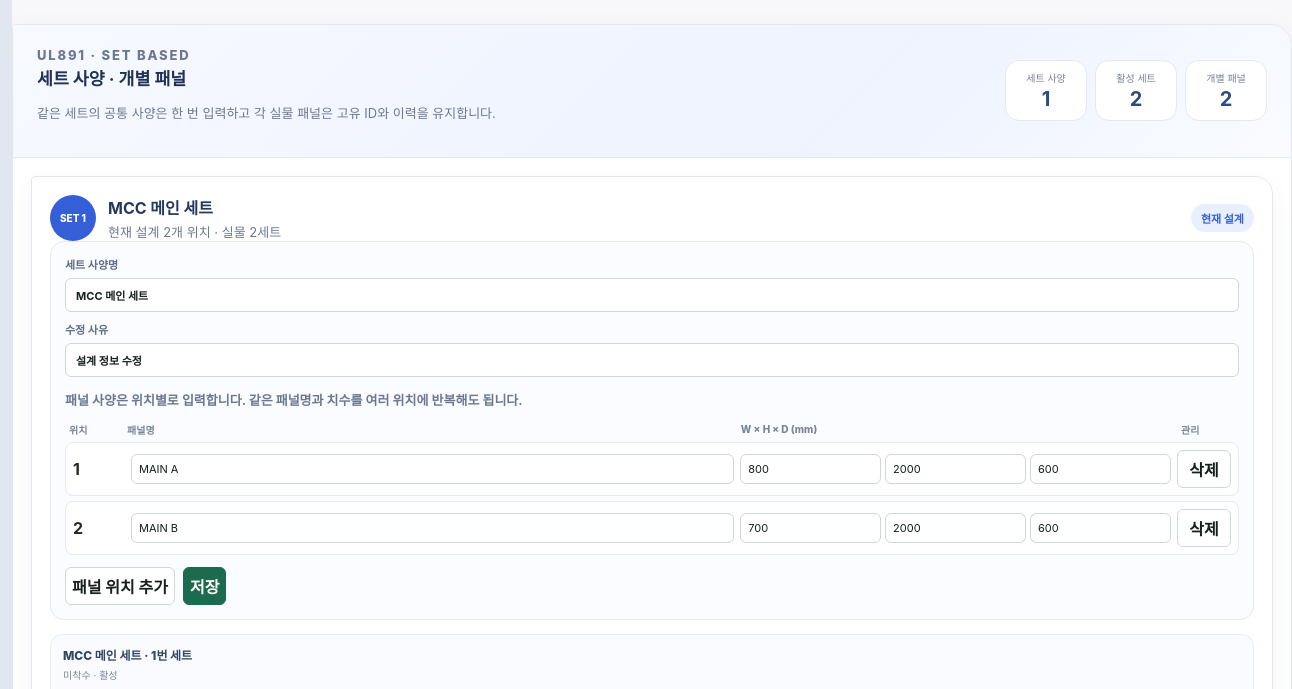
Test case: Ul891SetWorkspace › saves the current design directly without a version or publish step
The width and height of the screenshot is (1292, 689).
expect the button "저장" is shown: met, box [183, 567, 226, 605]
Step 1. Replace the text in the field named "2번 위치 패널명" with "MAIN A" → (433, 528), box [131, 513, 734, 543]
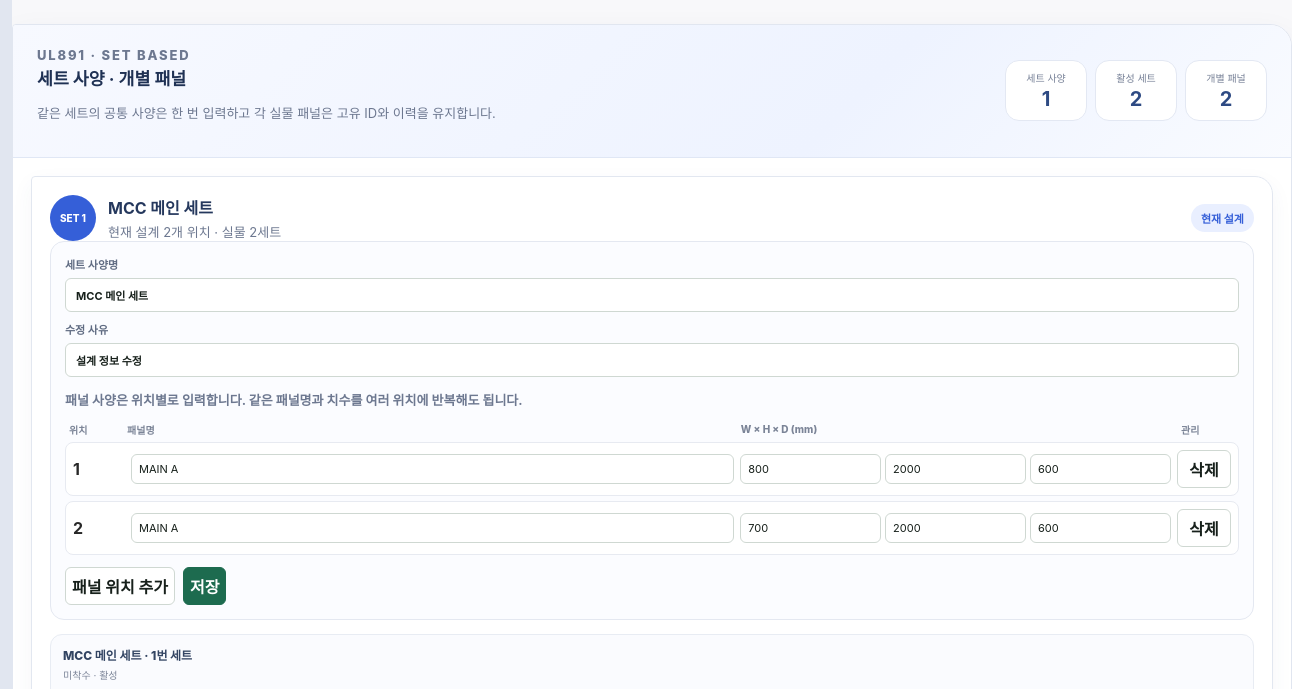
Step 2. Click the button "저장" → (205, 586), box [183, 567, 226, 605]
(page scrolled)
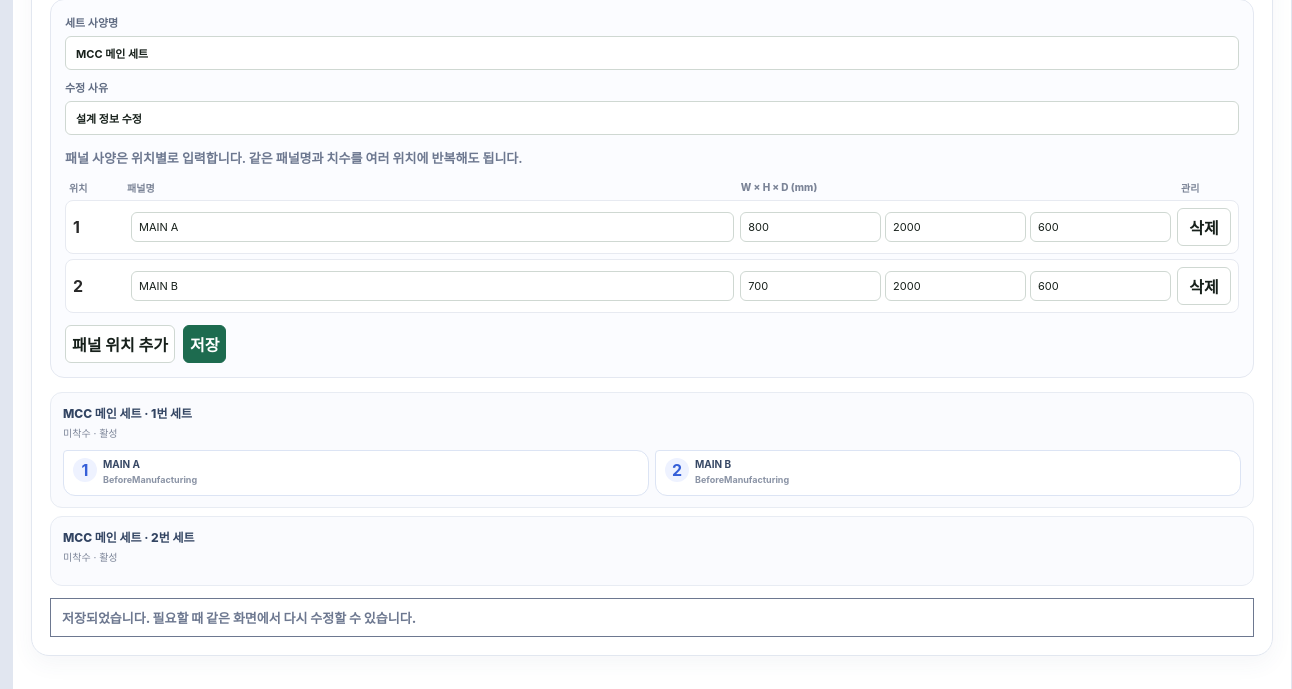
expect the text "저장되었습니다. 필요할 때 같은 화면에서 다시 수정할 수 있습니다." is shown: met, box [50, 598, 1254, 637]
